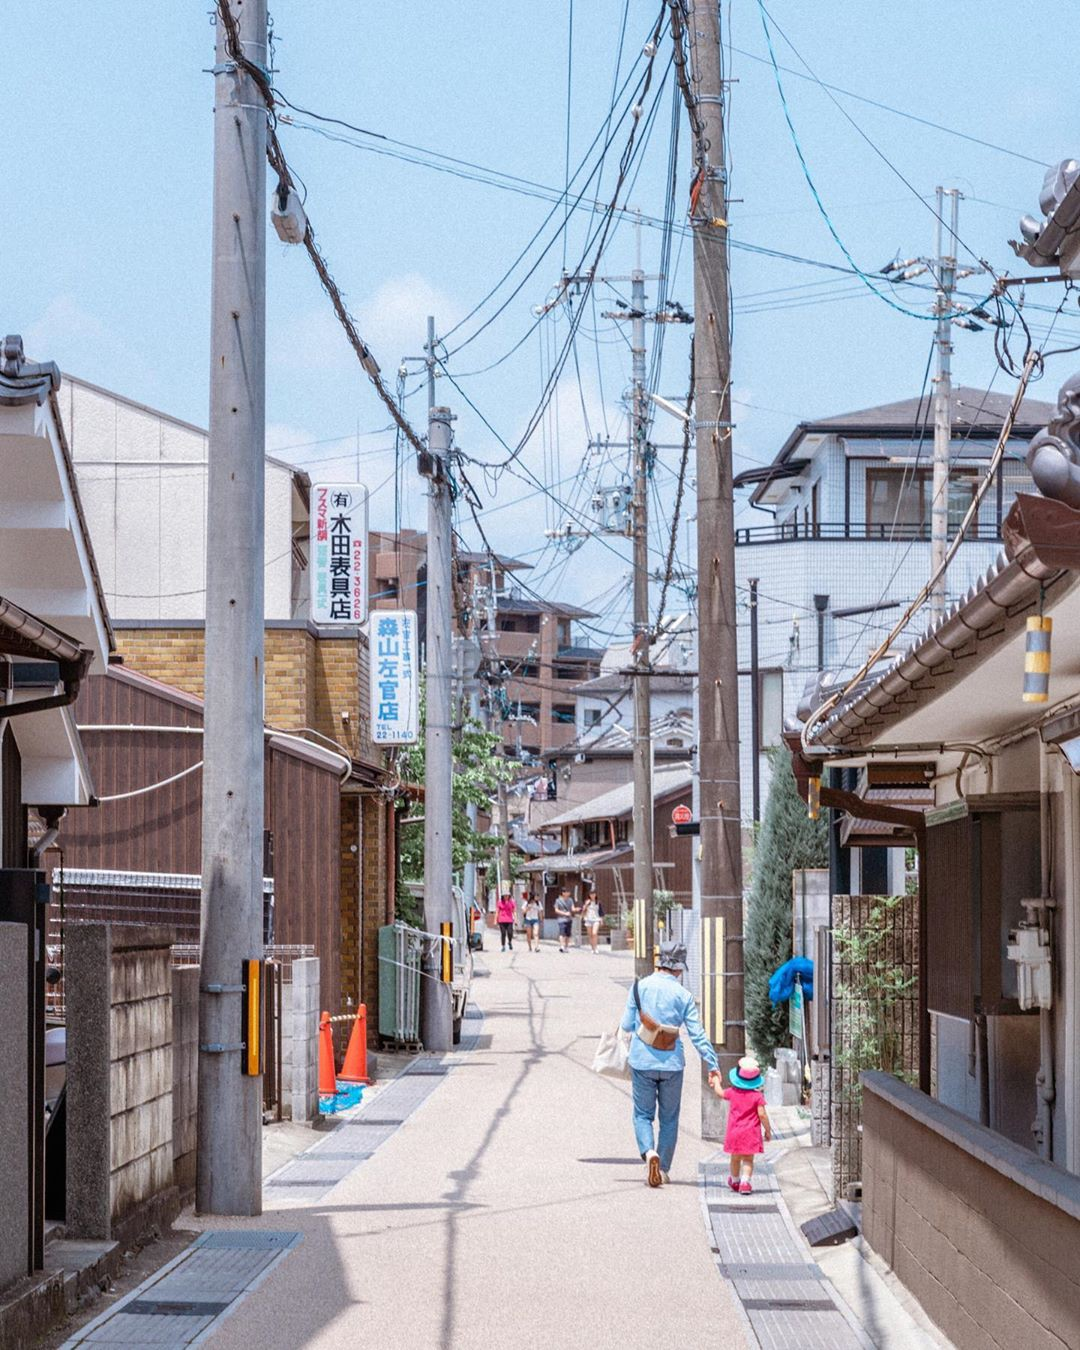people: (621, 935, 687, 1201), (723, 1052, 764, 1195), (492, 886, 517, 959), (579, 886, 604, 944), (551, 884, 574, 946), (515, 890, 536, 956)
